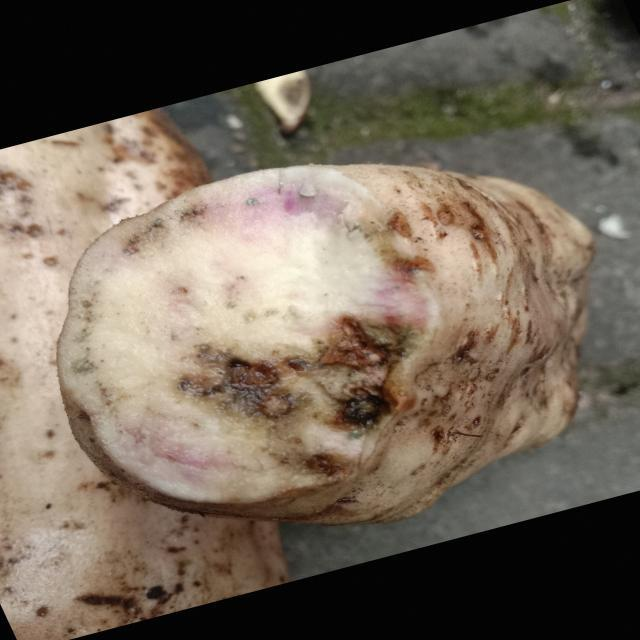Sick Sweet Potato_Tuber Rot: (58, 166, 440, 518)
